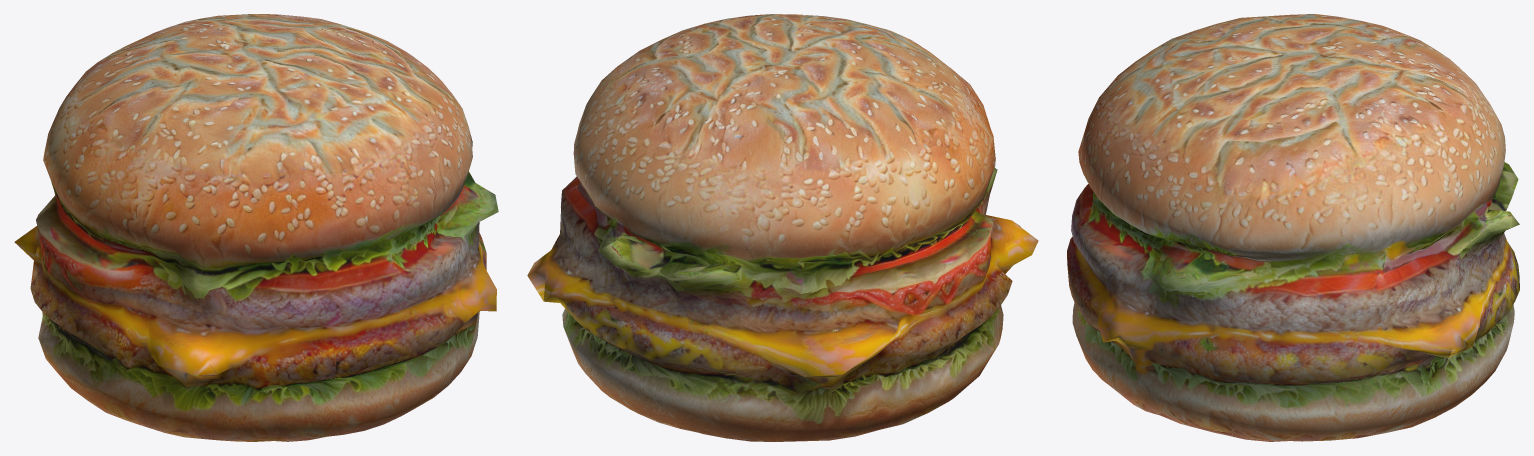
Rendered from Hamburger.FBX.
The picture shows the model from 3 angles, left to right: view 1: azimuth 30°, elevation 25°; view 2: azimuth 150°, elevation 25°; view 3: azimuth 270°, elevation 25°; orthographic projection.
Visible parts, largest first — view 1: Hamburger; view 2: Hamburger; view 3: Hamburger.
Boxes of the visible parts, left/top/right/bottom form: Hamburger: left=14, top=14, right=498, bottom=441; Hamburger: left=527, top=14, right=1038, bottom=441; Hamburger: left=1067, top=14, right=1519, bottom=441.
Bounding box in the file's own units: 4.75 × 3.7 × 4.67.
Materials: 1 (1 with a texture image).
